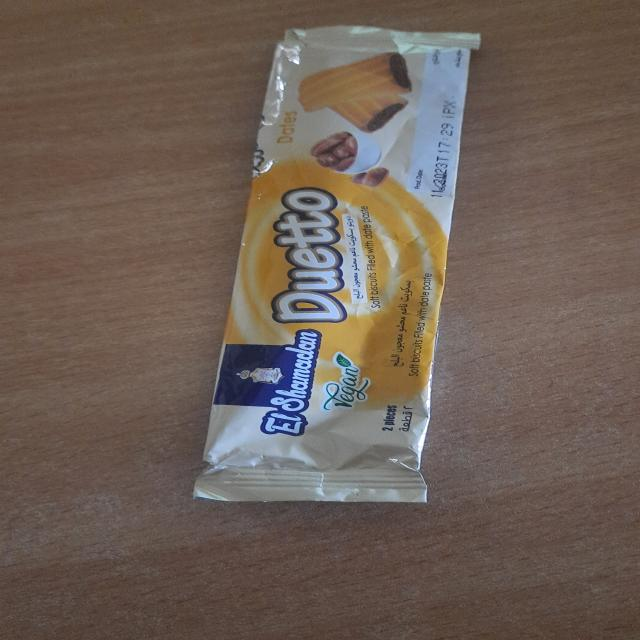plastic: (193, 27, 480, 506)
